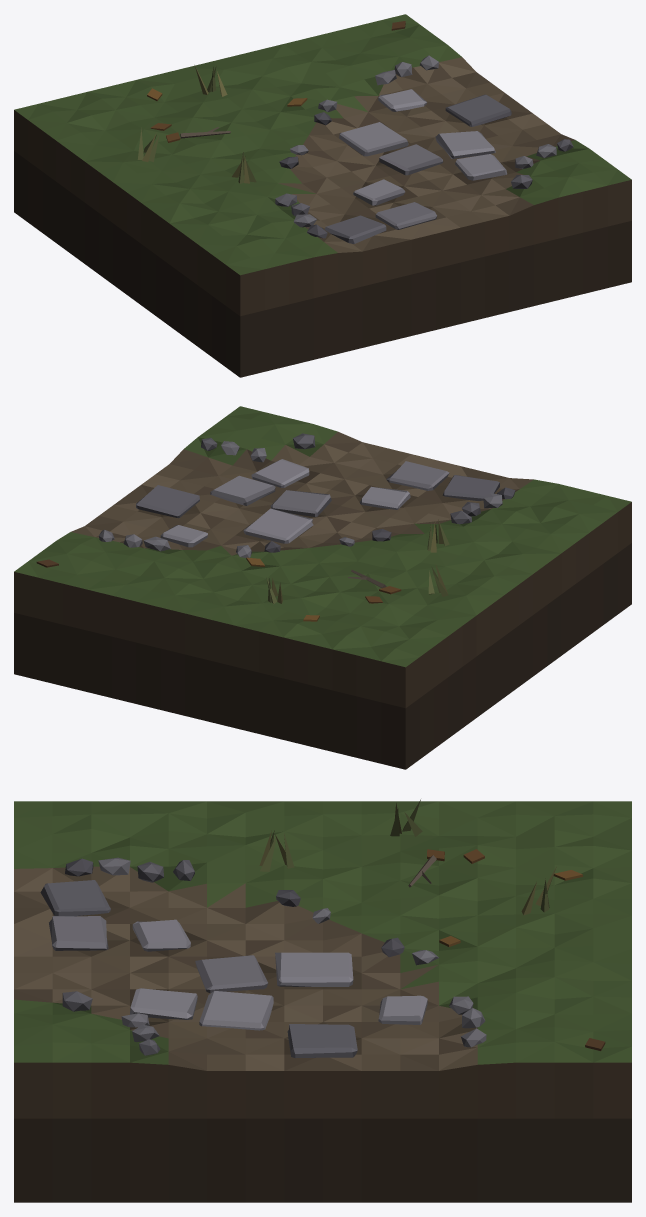
The model's file is haunt_road_corner.glb.
3 views of the same model, one above another, from view 1: azimuth 30°, elevation 25°; view 2: azimuth 150°, elevation 25°; view 3: azimuth 270°, elevation 25° (orthographic). The views are drawn at different scales.
Parts seen in each view (by area): view 1: HauntRoadCorner; view 2: HauntRoadCorner; view 3: HauntRoadCorner.
Part boxes in pixels (x1,y1,x2,y2): HauntRoadCorner: (14,14,631,377); HauntRoadCorner: (14,406,631,769); HauntRoadCorner: (14,799,631,1202).
Size of the model in its own units: 2 by 0.6359 by 2.
